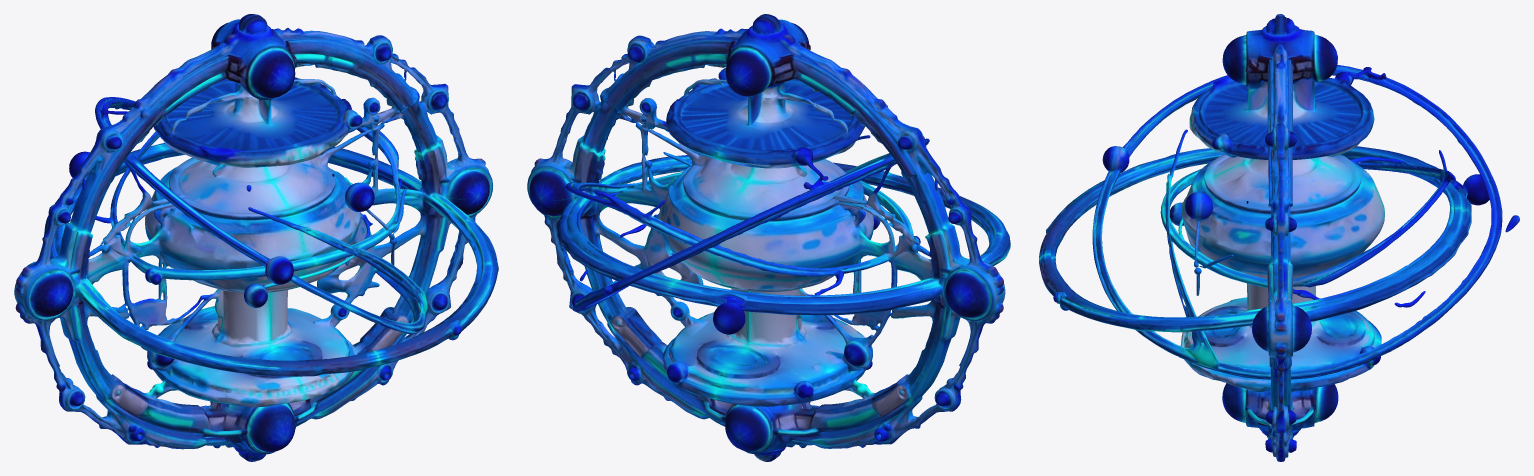
The model's file is hud-orbital.glb.
3 renders of one model, left to right at view 1: azimuth 30°, elevation 25°; view 2: azimuth 150°, elevation 25°; view 3: azimuth 270°, elevation 25°, orthographic. The views are drawn at different scales.
Parts seen in each view (by area): view 1: world; view 2: world; view 3: world.
Part boxes in pixels (x1=…): world: x1=14, y1=14, x2=498, y2=461; world: x1=527, y1=14, x2=1010, y2=461; world: x1=1039, y1=14, x2=1519, y2=461.
Size of the model in its own units: 0.9998 by 0.8967 by 0.9197.
1 material, 1 textured.
